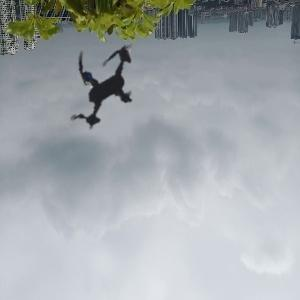drone: (21, 3, 192, 174)
